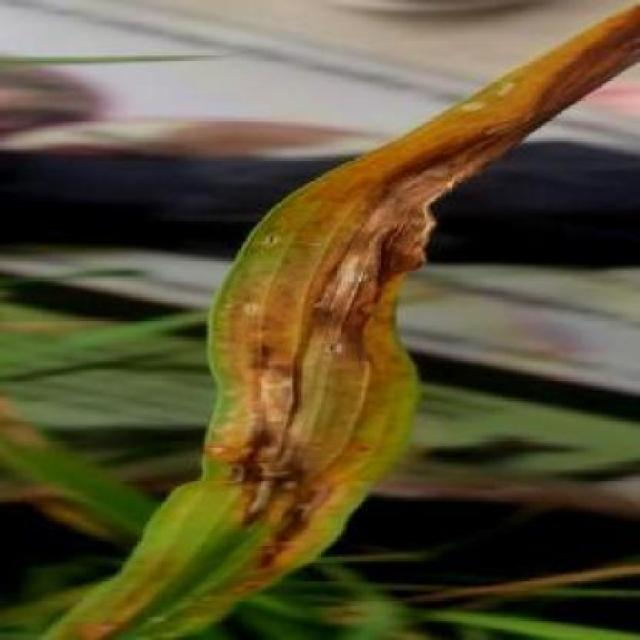Bacterial_Leaf_Blight: (310, 157, 490, 346), (202, 424, 344, 568), (0, 610, 125, 639)
